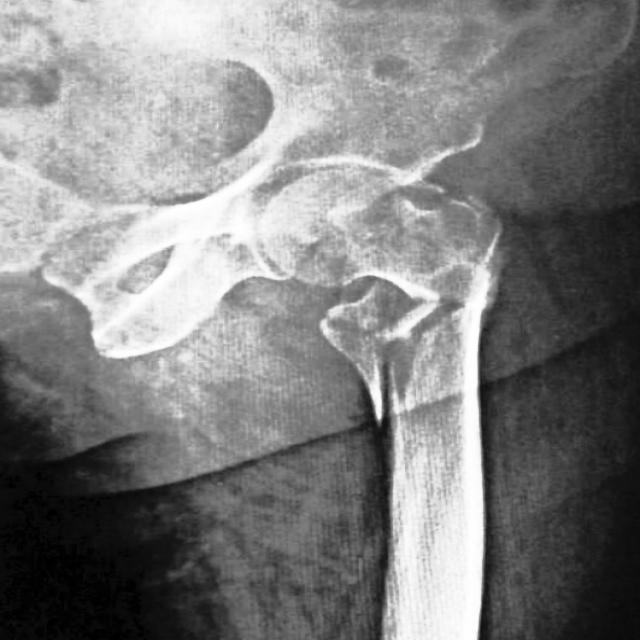Comminuted Fracture: (348, 348, 408, 431)
